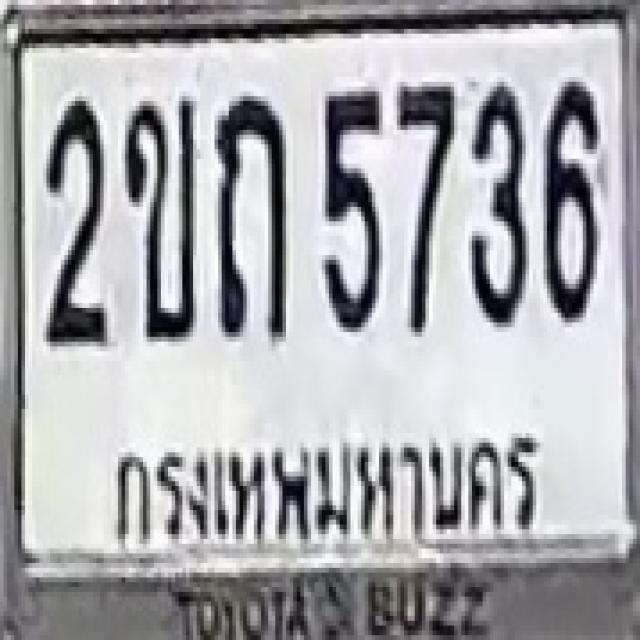-: (213, 91, 288, 337), (122, 96, 196, 337)
2: (43, 94, 107, 344)
3: (468, 82, 526, 327)
5: (320, 89, 381, 330)
6: (542, 77, 599, 322)
7: (395, 84, 456, 330)
BKK: (93, 419, 560, 573)
